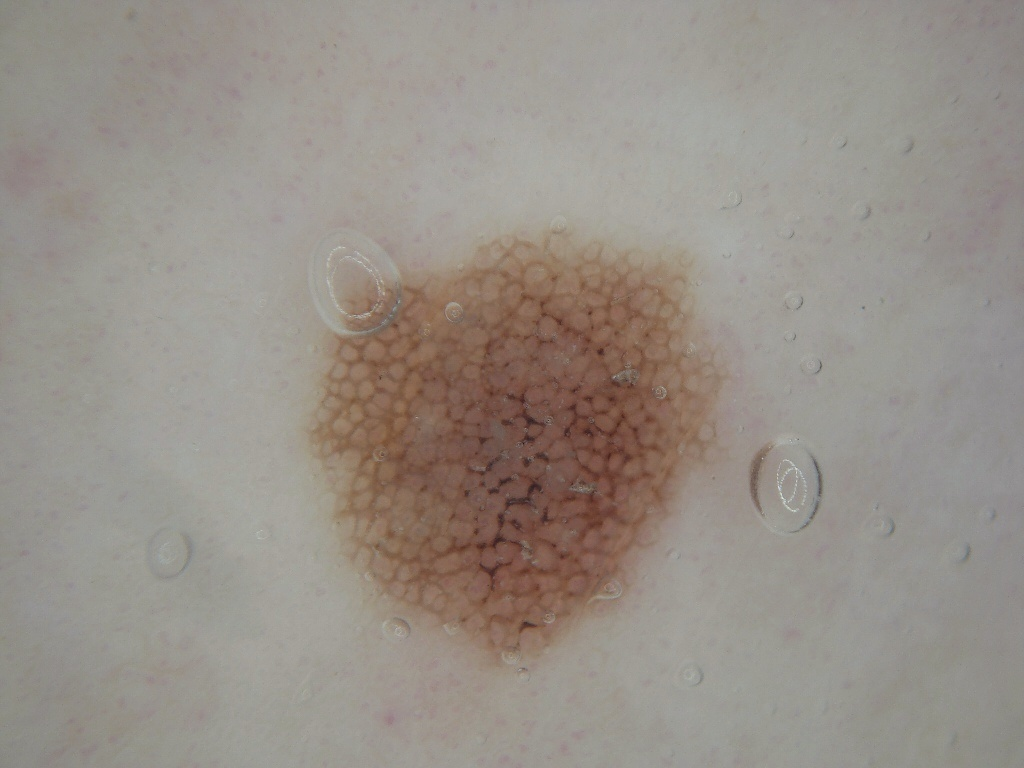Detected Lesion: (295, 221, 754, 680)
